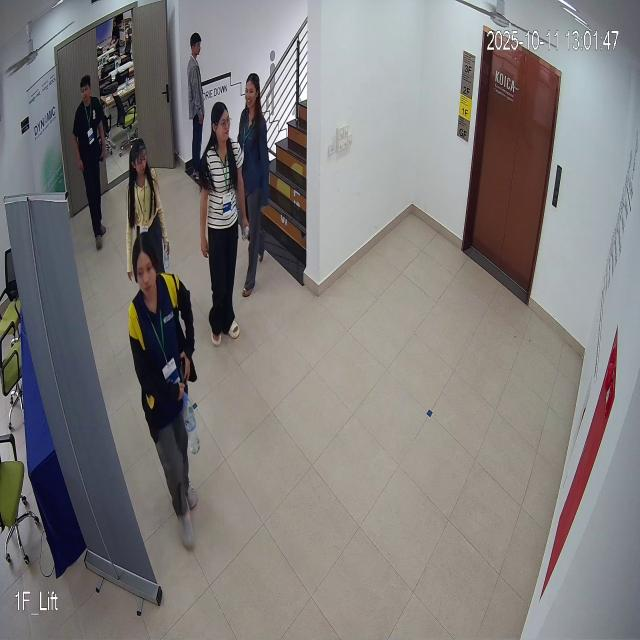face: (131, 240, 164, 302), (206, 99, 238, 148), (128, 135, 150, 183), (244, 67, 260, 110)
